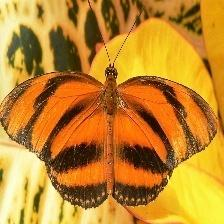butterfly: (0, 65, 218, 208)
